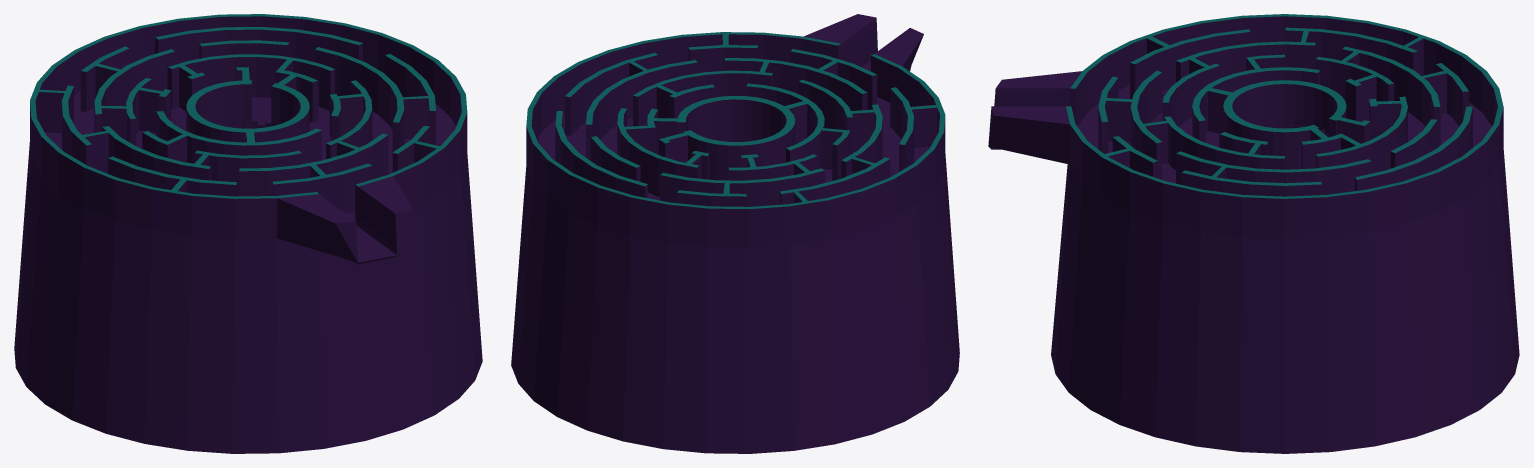
The model's file is LabyrinthV2.fbx.
The picture shows the model from 3 angles, left to right: view 1: azimuth 30°, elevation 25°; view 2: azimuth 150°, elevation 25°; view 3: azimuth 270°, elevation 25°; orthographic projection. The views are drawn at different scales.
Visible parts, largest first — view 1: Labyrinthe.001; view 2: Labyrinthe.001; view 3: Labyrinthe.001.
Boxes of the visible parts, x1,y1,x2,y2 form: Labyrinthe.001: (14, 14, 482, 453); Labyrinthe.001: (511, 14, 959, 453); Labyrinthe.001: (988, 14, 1519, 453).
Bounding box in the file's own units: 14724 × 8631 × 16690.
